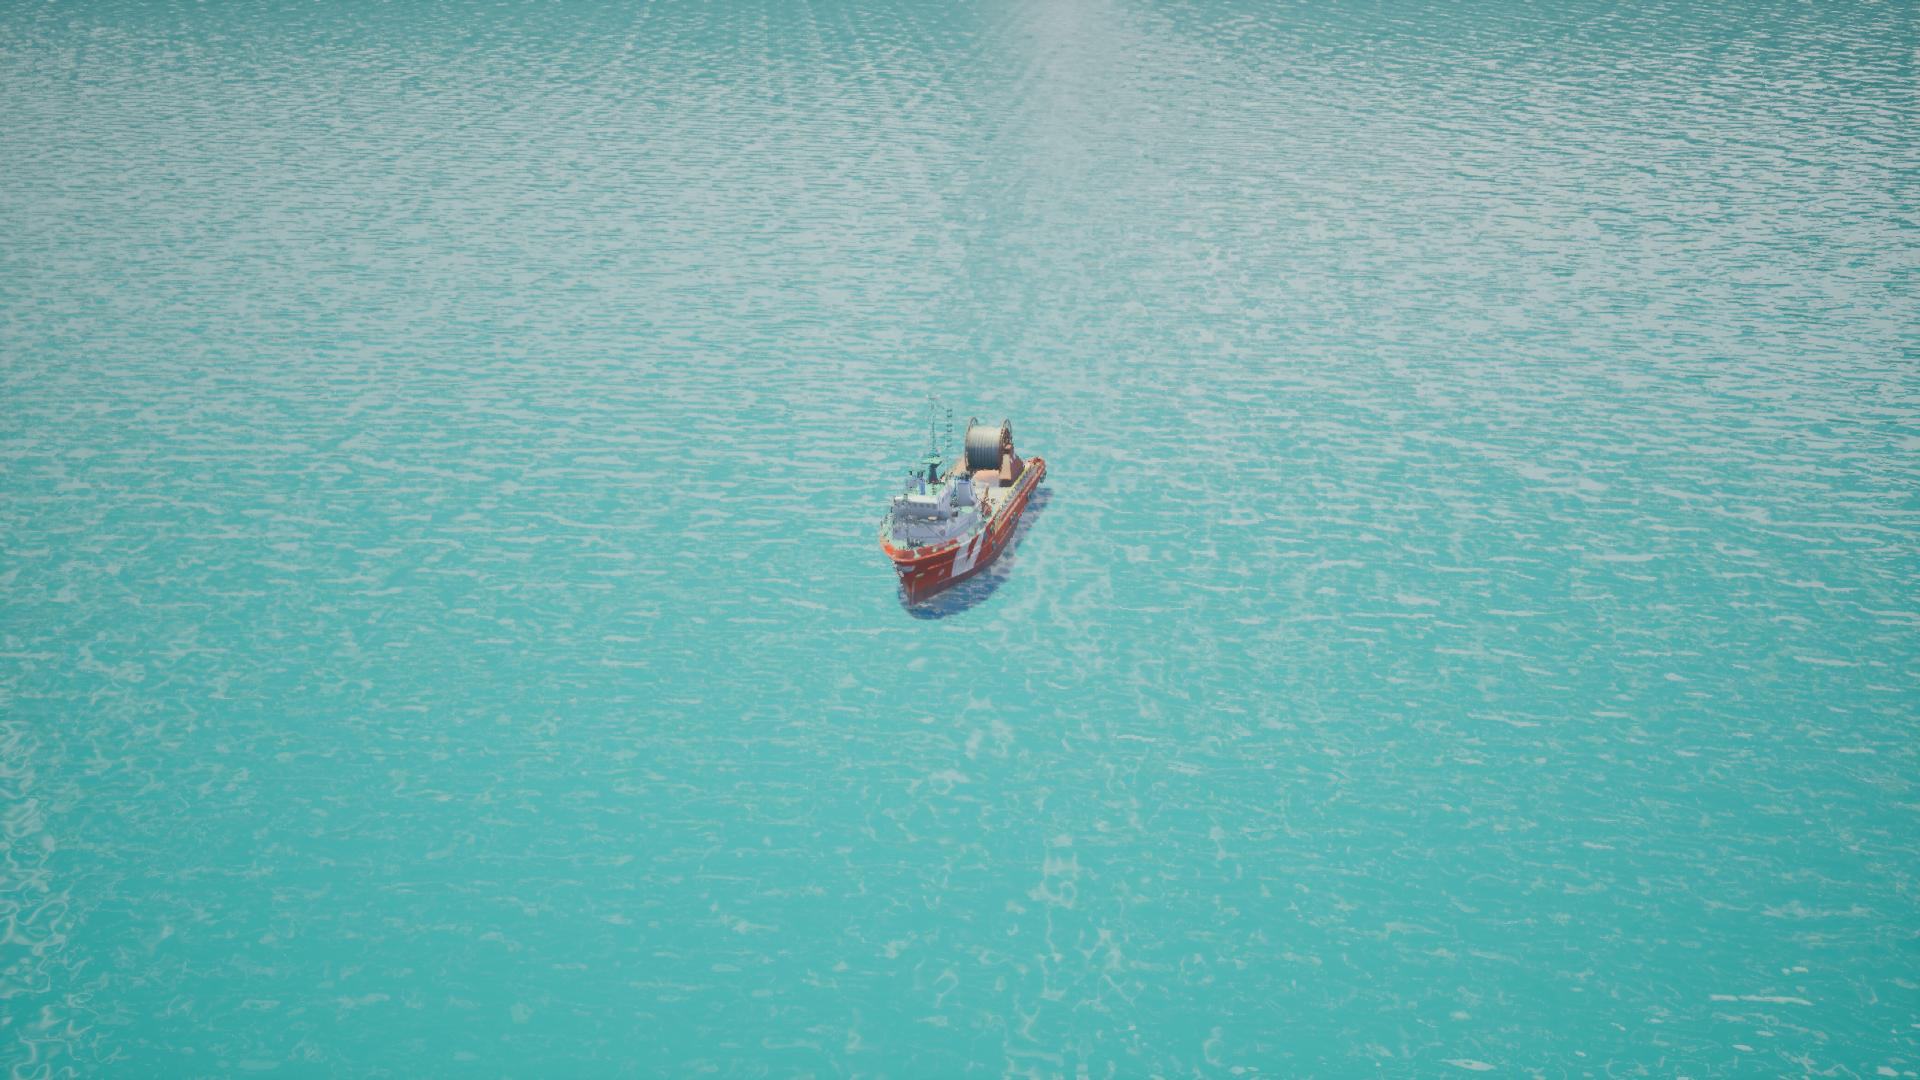Tug Boat: (878, 419, 1046, 622)
